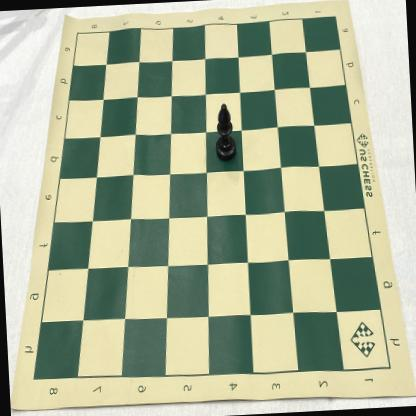black-bishop: (212, 102, 236, 162)
